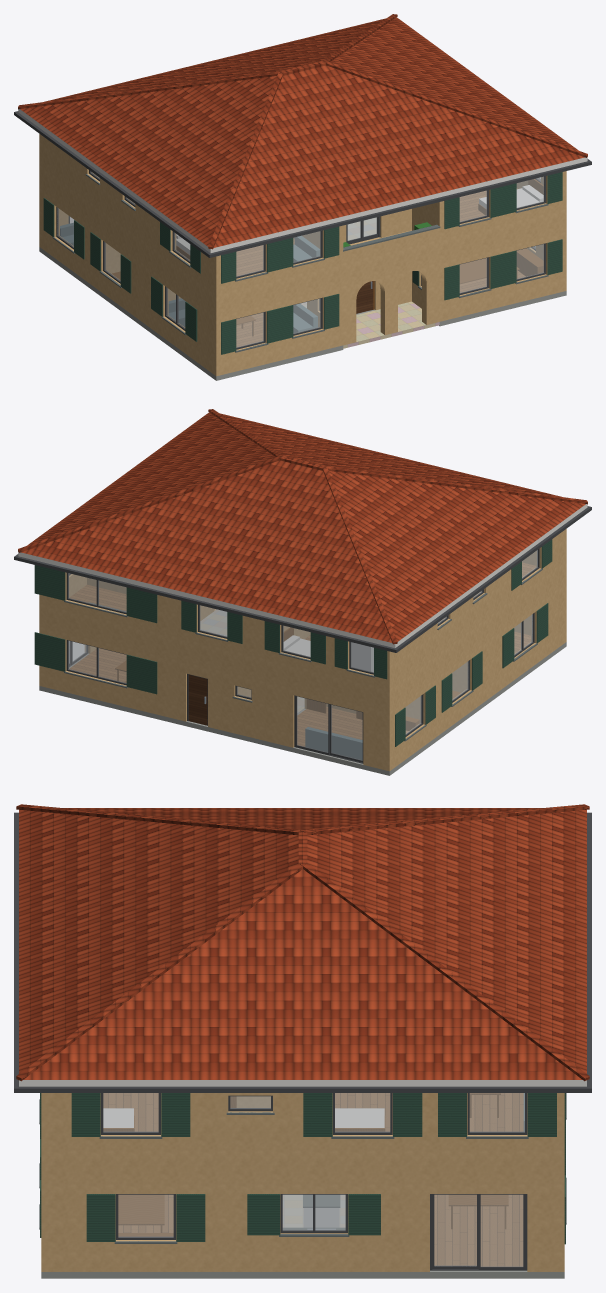
The model's file is mediterranean-villa-3d-model.glb.
The picture shows the model from 3 angles, top to bottom: view 1: azimuth 30°, elevation 25°; view 2: azimuth 150°, elevation 25°; view 3: azimuth 270°, elevation 25°; orthographic projection. The views are drawn at different scales.
Visible parts, largest first — view 1: Hipped tiled roof, Wall, Window shutter, Window glazing, Eaves gutter, Arcade pier, Ground floor slab, Balcony parapet, Window frame, Loggia paving, Hip cap.001, Hip cap.003 (+12 smaller); view 2: Hipped tiled roof, Wall, Window shutter, Window glazing, Sliding door glazing, Eaves gutter, Ground floor slab, Window frame, Family room floor, Hip cap.002, Hip cap, Hip cap.003 (+9 smaller); view 3: Hipped tiled roof, Wall, Window shutter, Window glazing, Eaves gutter, Sliding door glazing, Breakfast room floor, Ground floor slab, Window frame, Hip cap.001, Hip cap.002, Table top (+12 smaller).
Part boxes in pixels (x1,y1,x2,y2): Hipped tiled roof: (18,17,587,252); Wall: (39,134,566,376); Window shutter: (43,172,562,354); Window glazing: (57,172,544,347); Eaves gutter: (14,111,591,257); Arcade pier: (343,255,439,345); Ground floor slab: (39,247,566,380); Balcony parapet: (343,228,439,274); Window frame: (56,170,545,349); Loggia paving: (343,301,439,348); Hip cap.001: (324,60,587,157); Hip cap.003: (18,71,281,109); Hipped tiled roof: (18,412,587,647); Wall: (39,529,566,771); Window shutter: (34,539,552,746); Window glazing: (68,550,537,734); Sliding door glazing: (69,641,362,760); Eaves gutter: (14,506,591,652); Ground floor slab: (39,642,566,775); Window frame: (66,548,539,736); Family room floor: (297,707,408,746); Hip cap.002: (18,455,281,552); Hip cap: (324,466,587,504); Hip cap.003: (323,467,397,644); Hipped tiled roof: (19,808,586,1086); Wall: (41,1093,564,1271); Window shutter: (40,1093,565,1244); Window glazing: (103,1093,524,1237); Eaves gutter: (14,812,591,1092); Sliding door glazing: (434,1194,523,1266); Breakfast room floor: (434,1194,523,1266); Ground floor slab: (41,1270,564,1278); Window frame: (101,1093,527,1239); Hip cap.001: (16,862,305,1081); Hip cap.002: (300,862,589,1081); Table top: (118,1093,508,1225).
Size of the model in its own units: 17.46 by 9 by 15.46.
Materials: 22 (22 with a texture image).
